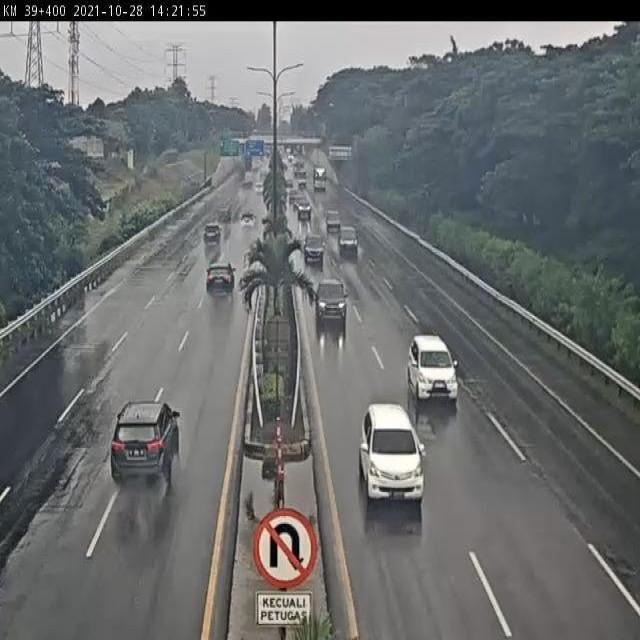car: (359, 404, 427, 503), (111, 402, 179, 482), (408, 332, 459, 401), (316, 279, 349, 324), (205, 261, 235, 296), (337, 225, 359, 256), (305, 236, 325, 261)
